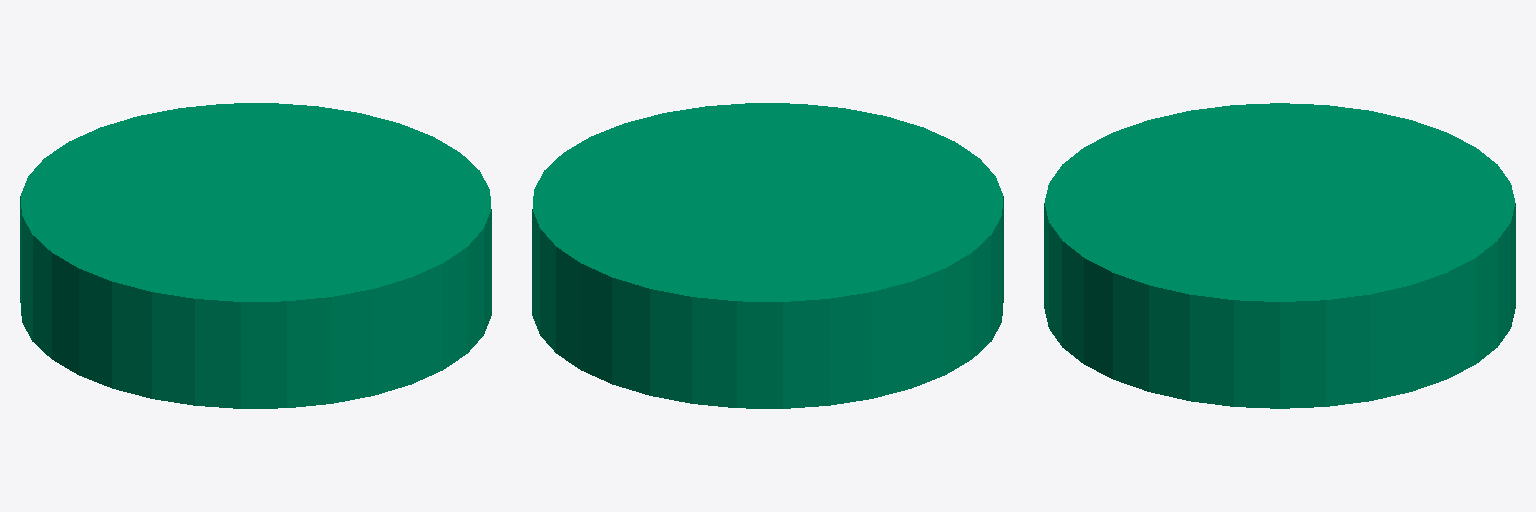
The robot description file, URDF, robot "omni_base":
<?xml version="1.0"?>
<robot name="omni_base">

<link name="plane">
</link>

<link name="link_x">
</link>

<link name="link_y">
<inertial>
      <mass value="10.0"/>
      <origin rpy="0 0 0" xyz="0 0 0"/>
      <inertia ixx="1.0" ixy="0.0" ixz="0.0" iyy="1.0" iyz="0.0" izz="1.0"/>
    </inertial>
    <collision>
      <origin rpy="0.0 0 0" xyz="0 0 0"/>
      <geometry>
          <cylinder length="0.1" radius="0.2"/>
      </geometry>
    </collision>
    <visual>
      <origin rpy="0.0 0 0" xyz="0 0 0"/>
      <geometry>
          <cylinder length="0.1" radius="0.2"/>
      </geometry>
    </visual>
  </link>

  <joint name="plane_to_link_x" type="prismatic">
    <axis xyz="1 0 0"/>
    <origin xyz="0 0 0"/>
    <parent link="plane"/>
    <child link="link_x"/>
    <limit effort="1000.0" velocity="100"/>
  </joint>

  <joint name="plane_to_link_y" type="prismatic">
    <axis xyz="0 1 0"/>
    <origin xyz="0 0 0"/>
    <parent link="link_x"/>
    <child link="link_y"/>
    <limit effort="1000.0" velocity="100"/>
  </joint>

  
  
</robot>

--- Facts derived from the render (not from the file) ---
Views: 3 orthographic renders of the robot side by side, from view 1: azimuth 30°, elevation 25°; view 2: azimuth 150°, elevation 25°; view 3: azimuth 270°, elevation 25°.
Model omni_base with 3 links and 2 joints (2 prismatic), rooted at plane, posed every joint at zero.
Visible links, largest first — view 1: link_y; view 2: link_y; view 3: link_y.
Boxes of the visible links, bbox=[...] form: link_y: bbox=[20, 103, 491, 408]; link_y: bbox=[532, 103, 1003, 408]; link_y: bbox=[1044, 103, 1515, 408].
Bounding box of the posed robot: 0.4 × 0.4 × 0.1 m (x, y, z).
Geometry: primitives only (box / cylinder / sphere), no mesh files.